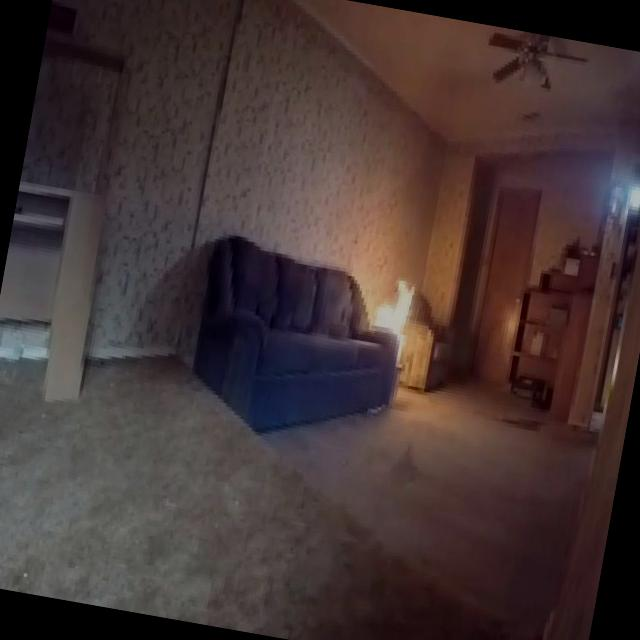fire: (360, 268, 426, 356)
